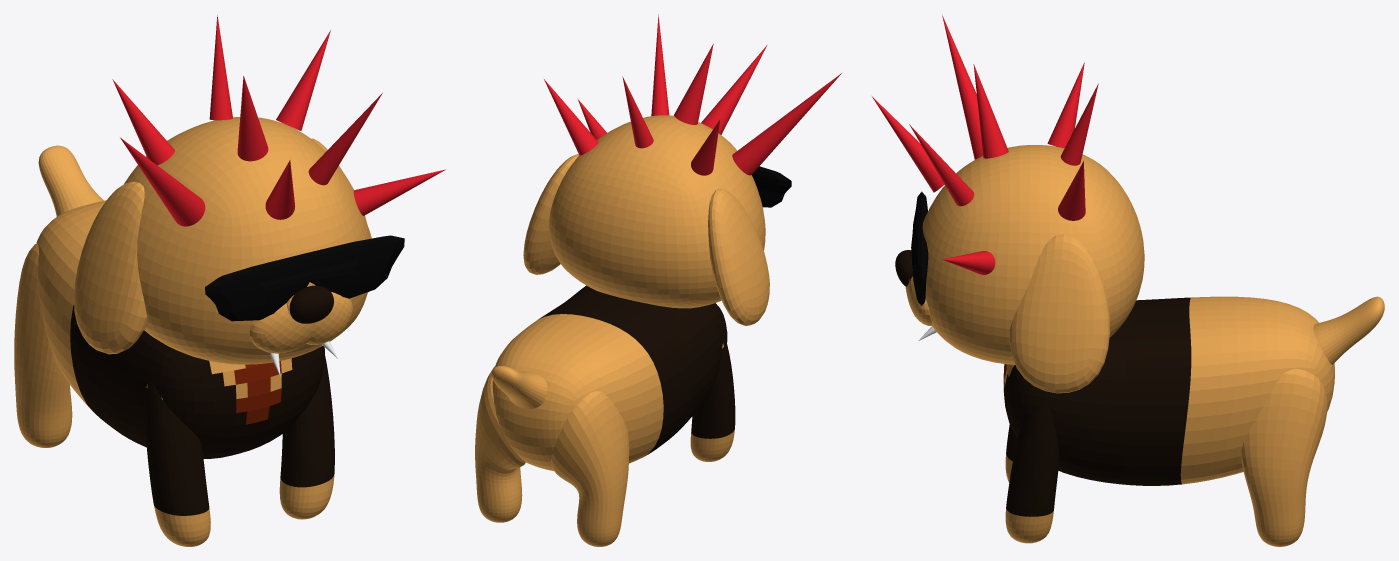
File: madGGBond.fbx
3 views of the same model, side by side, from view 1: azimuth 30°, elevation 25°; view 2: azimuth 150°, elevation 25°; view 3: azimuth 270°, elevation 25° (orthographic). The views are drawn at different scales.
Parts seen in each view (by area): view 1: Cube.001, Cone, Cone.005, Cone.009, Cone.007, Cone.002, Cone.004, Cone.001, Cone.003; view 2: Cube.001, Cone, Cone.003, Cone.009, Cone.005, Cone.002, Cone.001, Cone.007; view 3: Cube.001, Cone, Cone.009, Cone.003, Cone.002, Cone.007, Cone.001, Cone.005, Cone.004.
Boxes of the visible parts, box(x1,y1,x2,y2) form: Cube.001: box(14, 117, 404, 546); Cone: box(120, 137, 205, 226); Cone.005: box(276, 30, 330, 130); Cone.009: box(237, 76, 268, 161); Cone.007: box(112, 79, 174, 165); Cone.002: box(308, 93, 382, 185); Cone.004: box(353, 169, 445, 215); Cone.001: box(209, 15, 232, 120); Cone.003: box(265, 160, 295, 219); Cube.001: box(475, 115, 791, 546); Cone: box(732, 73, 841, 175); Cone.003: box(701, 45, 767, 134); Cone.009: box(674, 43, 713, 124); Cone.005: box(544, 79, 598, 155); Cone.002: box(651, 14, 669, 115); Cone.001: box(622, 76, 653, 148); Cone.007: box(691, 119, 720, 175); Cube.001: box(895, 145, 1384, 546); Cone: box(942, 14, 982, 159); Cone.009: box(973, 64, 1008, 158); Cone.003: box(872, 96, 944, 192); Cone.002: box(909, 124, 974, 206); Cone.007: box(1047, 62, 1084, 148); Cone.001: box(1060, 83, 1098, 165); Cone.005: box(1058, 161, 1085, 220); Cone.004: box(942, 251, 995, 274).
Bounding box in the file's own units: 127 × 180 × 191.
